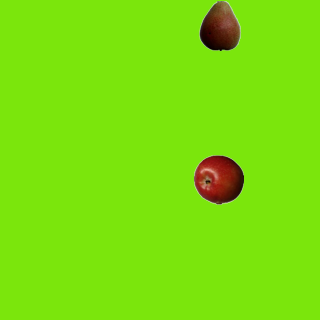Apple Braeburn: (193, 154, 243, 204)
Pear Forelle: (194, 0, 244, 50)
